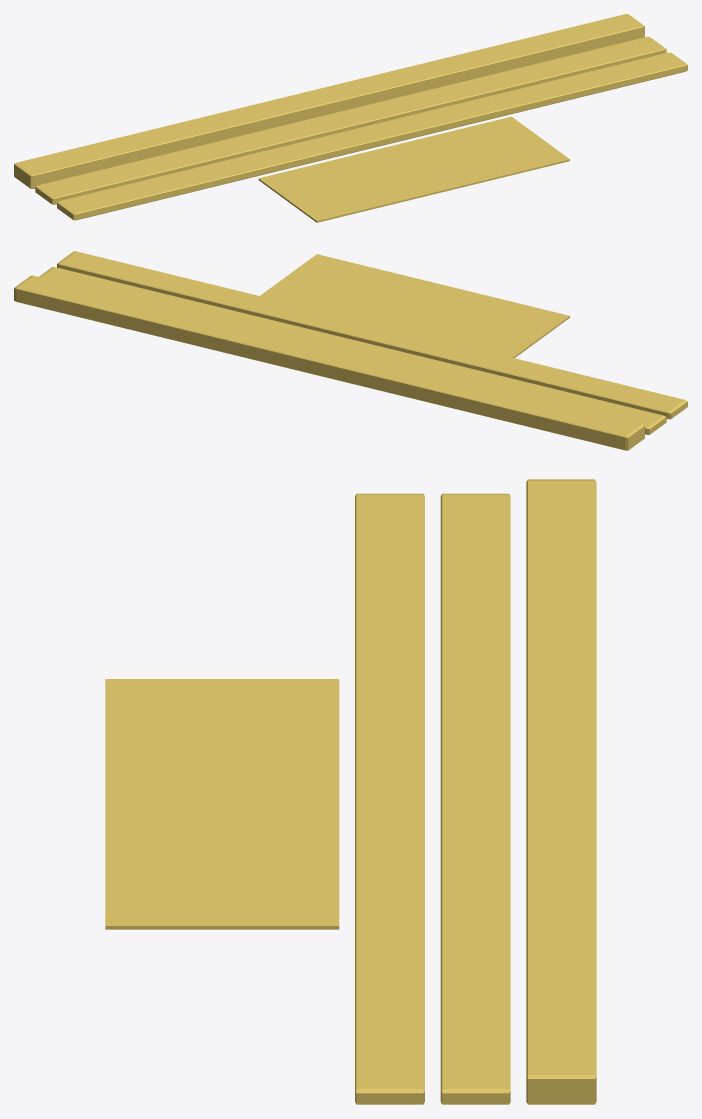
Rendered from step4.glb.
3 renders of one model, top to bottom at view 1: azimuth 30°, elevation 25°; view 2: azimuth 150°, elevation 25°; view 3: azimuth 270°, elevation 25°, orthographic. The views are drawn at different scales.
Parts seen in each view (by area): view 1: base1.002, base1.005, base2.003, base2.002; view 2: base1.002, base1.005, base2.003, base2.002; view 3: base1.005, base1.002, base2.002, base2.003.
Part boxes in pixels (<box>): base1.002: <box>14,14,644,188</box>; base1.005: <box>258,116,569,222</box>; base2.003: <box>57,52,687,220</box>; base2.002: <box>35,36,666,204</box>; base1.002: <box>14,275,644,450</box>; base1.005: <box>260,254,569,358</box>; base2.003: <box>57,251,687,419</box>; base2.002: <box>39,267,666,434</box>; base1.005: <box>105,679,339,929</box>; base1.002: <box>526,479,596,1104</box>; base2.002: <box>440,493,510,1104</box>; base2.003: <box>355,493,424,1104</box>.
Size of the model in its own units: 1.82 by 0.04 by 0.63.
